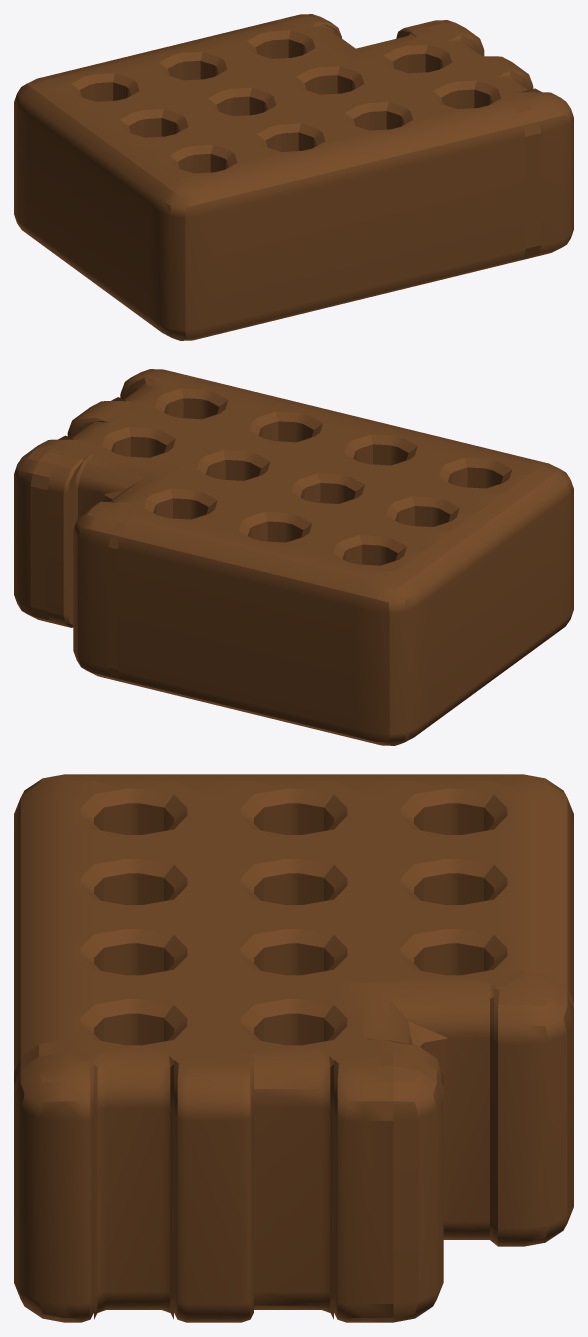
Rendered from Broken Brick.fbx.
3 renders of one model, top to bottom at view 1: azimuth 30°, elevation 25°; view 2: azimuth 150°, elevation 25°; view 3: azimuth 270°, elevation 25°, orthographic. The views are drawn at different scales.
Visible parts, largest first — view 1: pCube1; view 2: pCube1; view 3: pCube1.
Part boxes in pixels (bbox=[...]): pCube1: bbox=[14, 14, 573, 340]; pCube1: bbox=[14, 369, 573, 745]; pCube1: bbox=[14, 774, 573, 1322].
Size of the model in its own units: 0.2079 by 0.0757 by 0.15.
